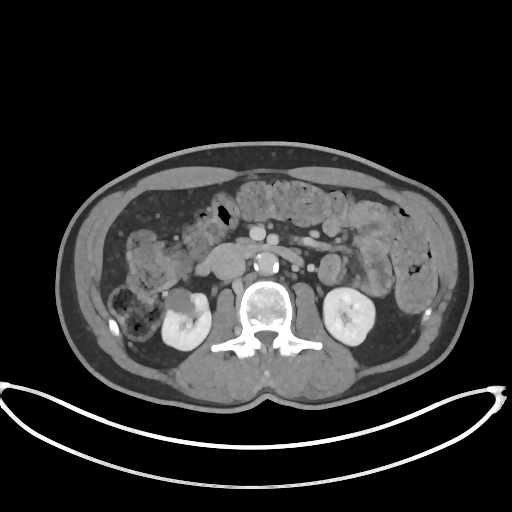Lesion: (159, 283, 201, 318)
